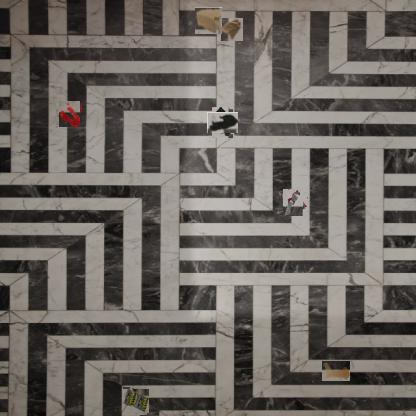dirty: (195, 7, 222, 35), (122, 388, 148, 414), (210, 110, 236, 135), (282, 190, 306, 214), (220, 17, 243, 41)
liquid: (57, 102, 82, 126), (322, 361, 350, 381)
